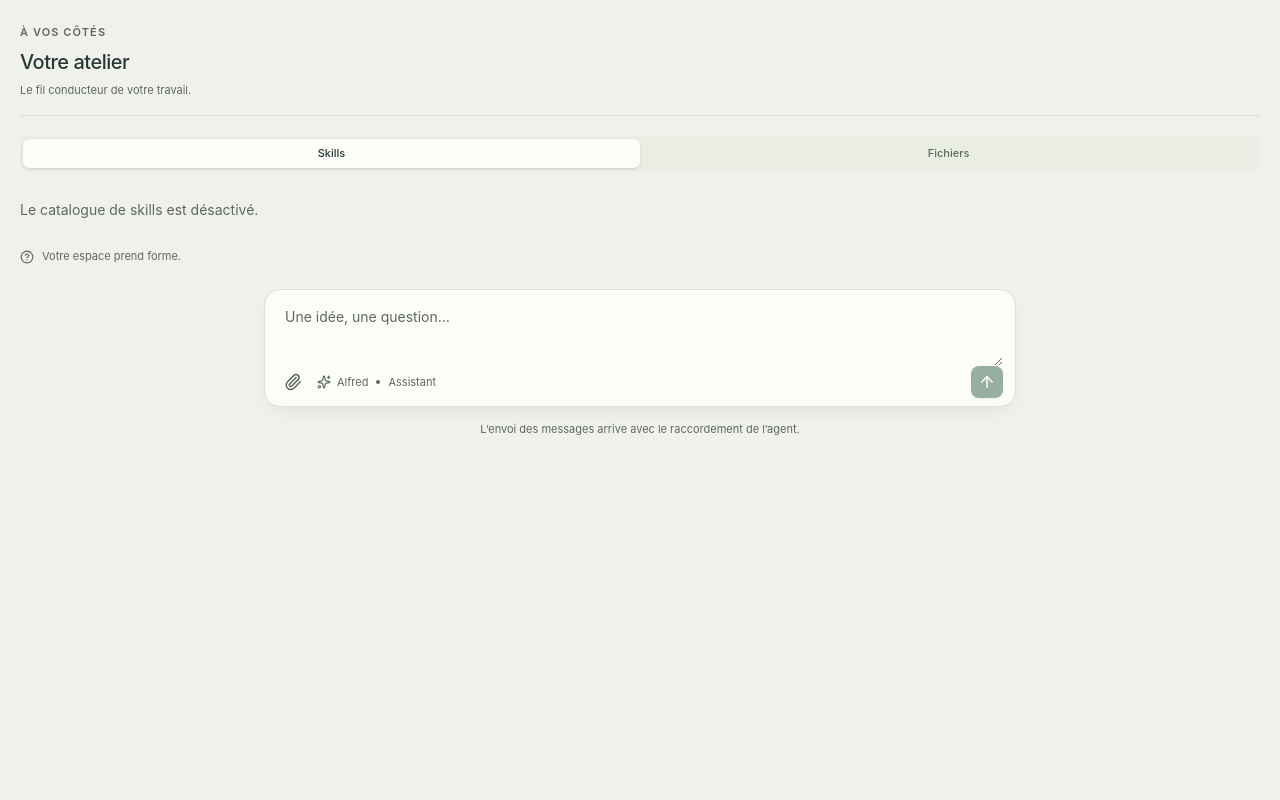
Scenario: Fichiers tab behind the fileUploads capability › renames a file through the shared text dialog and returns focus to its menu
Click the tab "Fichiers". click: (948, 154)
box: 640,139 -> 1257,168
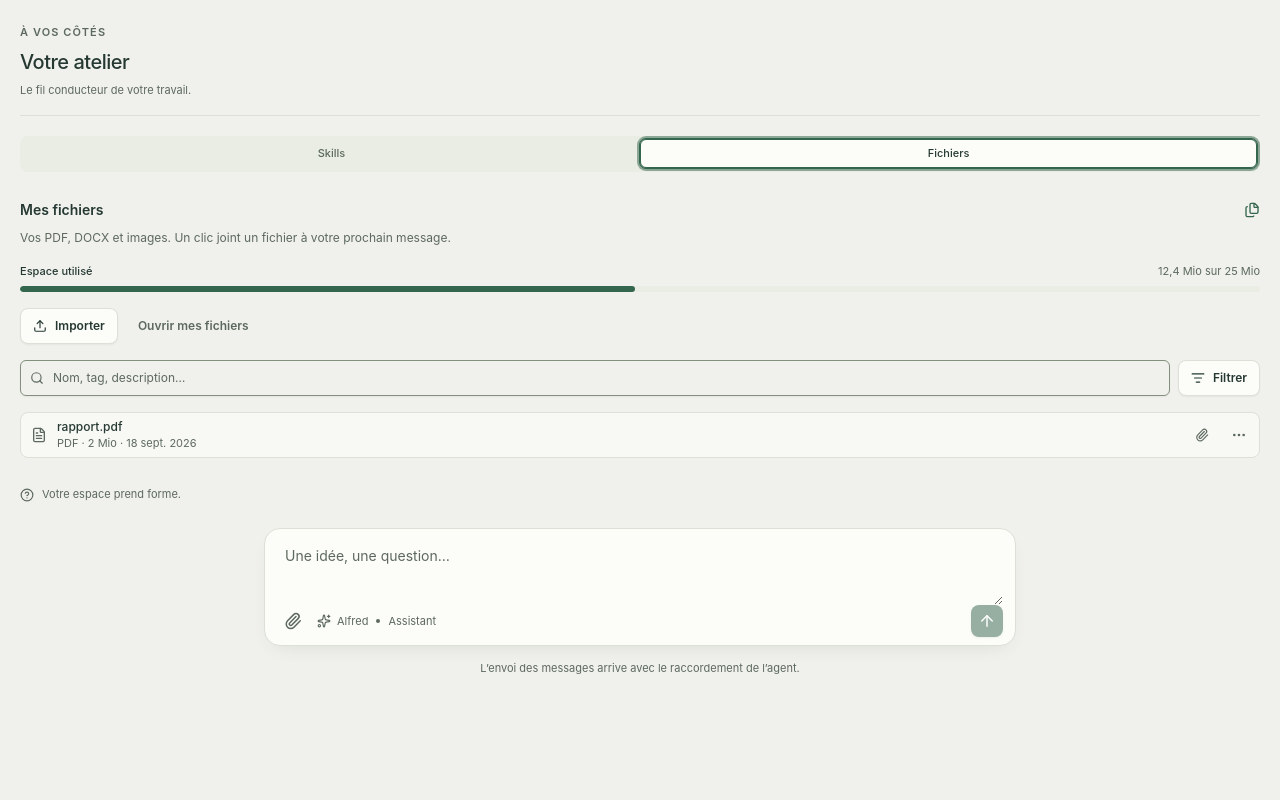
Click the button named "Actions du fichier rapport.pdf". click: (1239, 435)
box: 1223,419 -> 1255,451
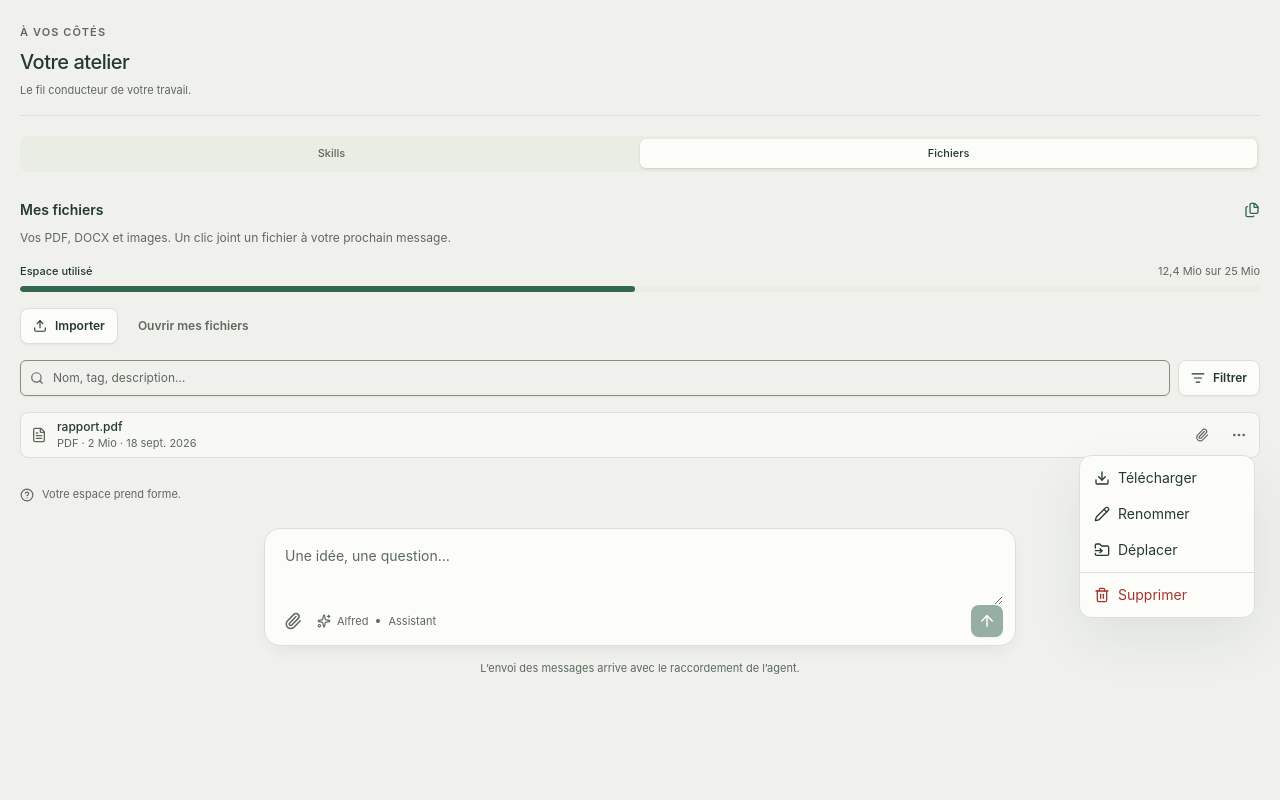
Expected: the menu items read "Télécharger", "Renommer", "Déplacer", "Supprimer", in this order
Click the menu item "Renommer". click: (1142, 514)
box: 1094,505 -> 1190,522
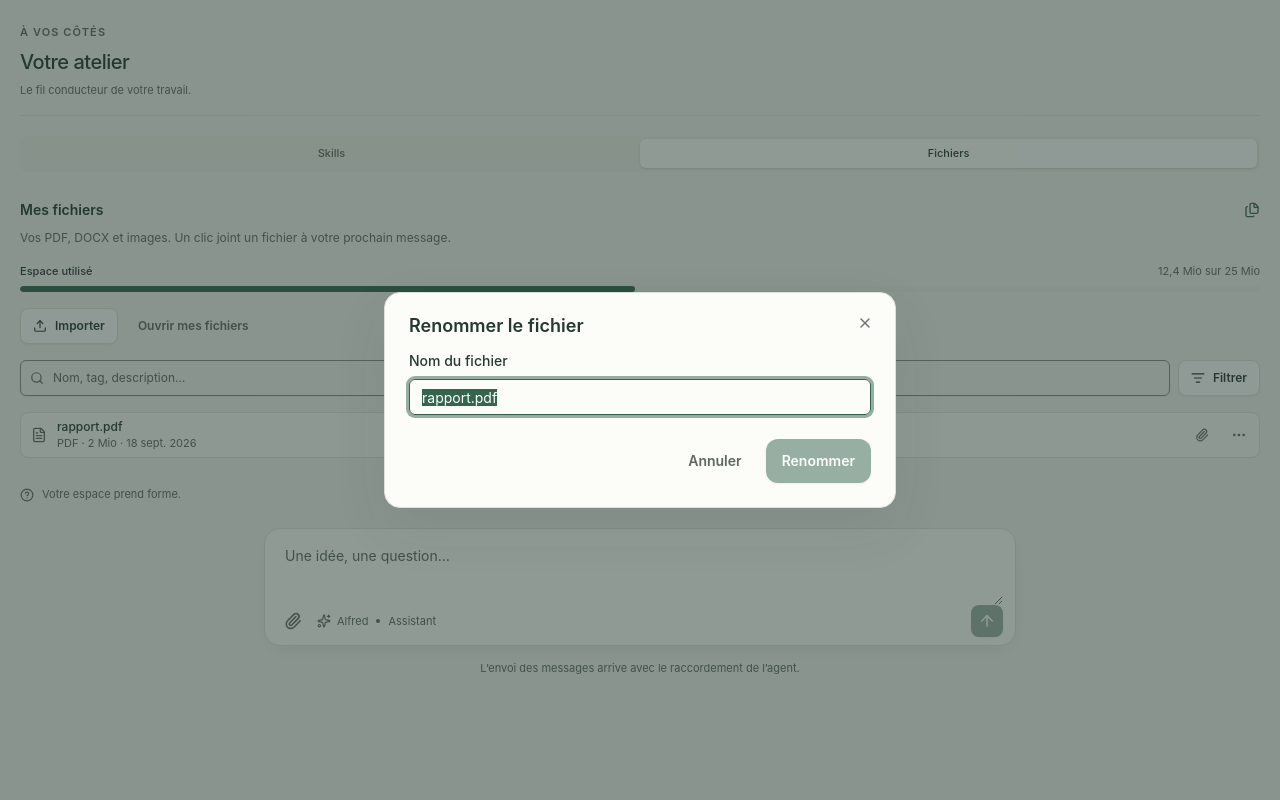
Expected: the field labelled "Nom du fichier" holds "rapport.pdf"
Replace the text in the field labelled "Nom du fichier" with "bilan.pdf". click: (640, 397)
box: 409,379 -> 871,415
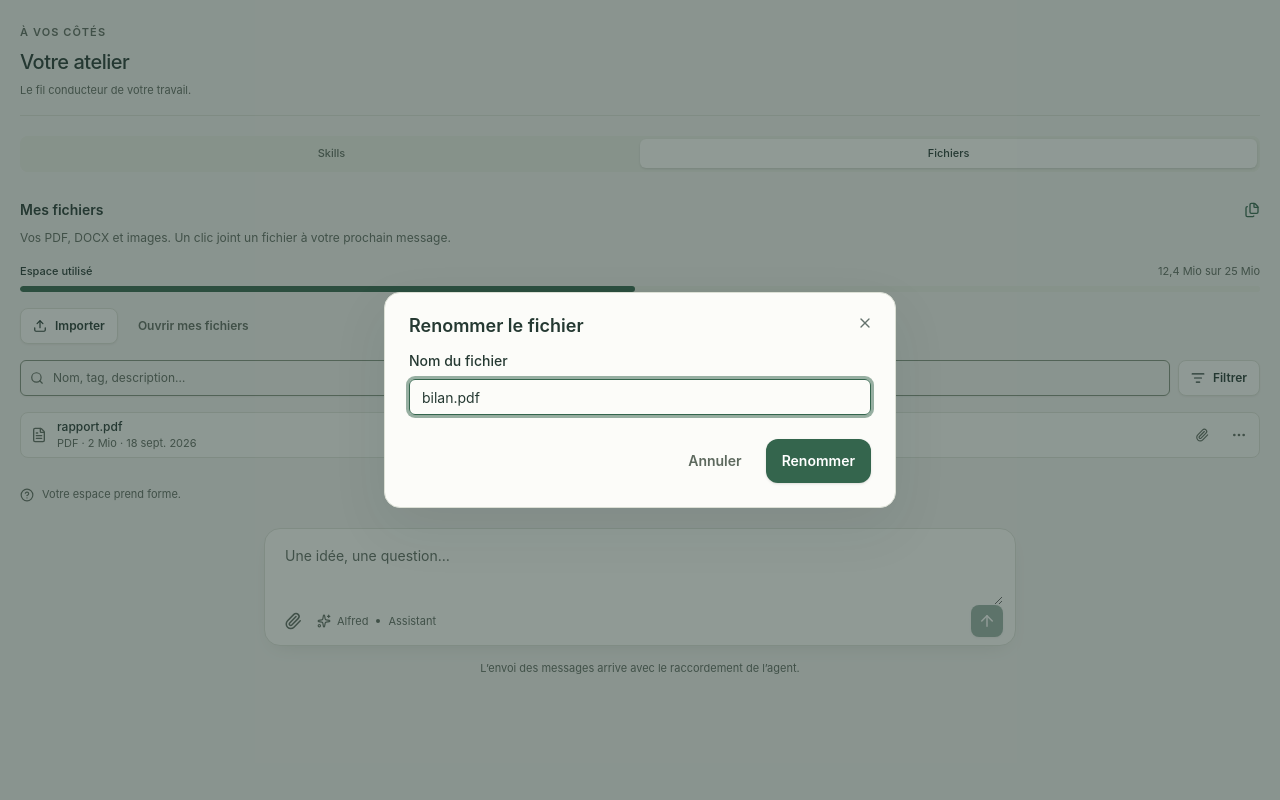
Click the button "Renommer". click: (818, 461)
box: 766,439 -> 871,483
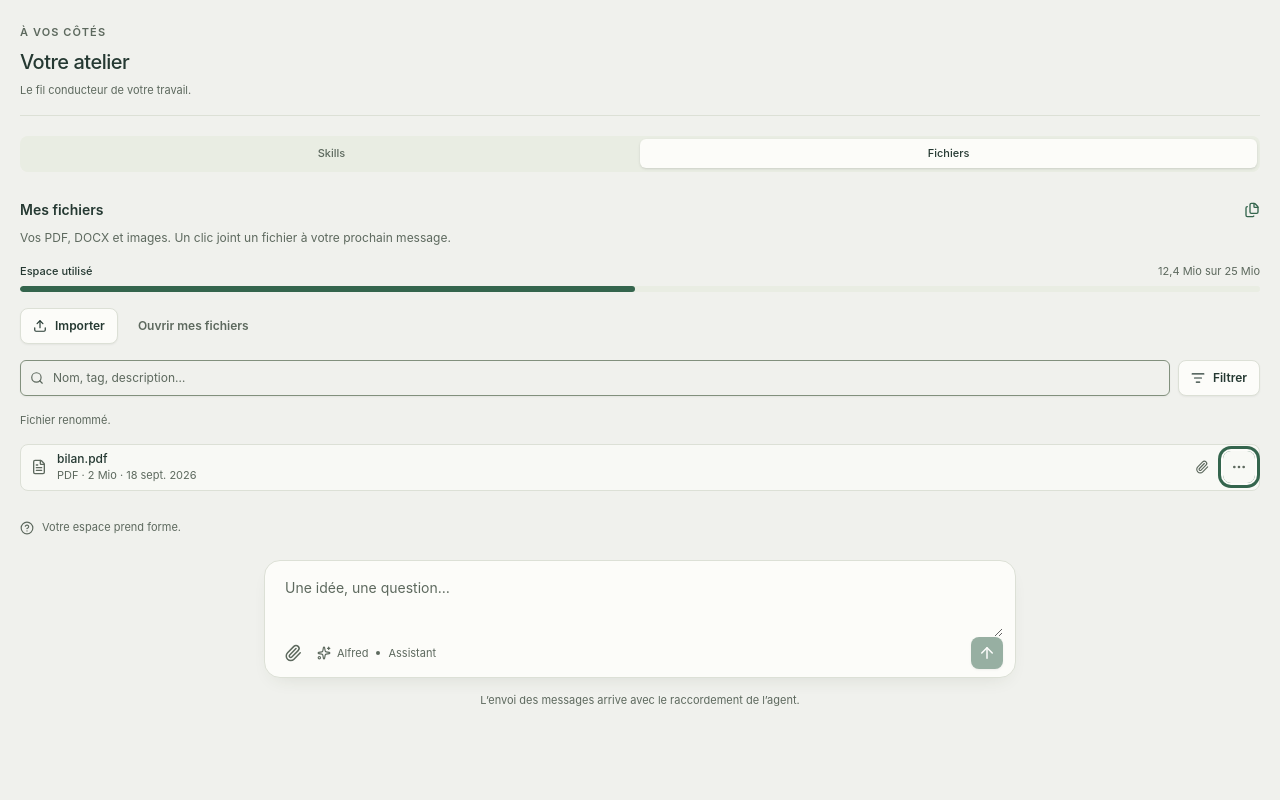
Expected: the dialog is gone
Expected: the text "Fichier renommé." is shown, 20,412 -> 111,426
Expected: the text titled "bilan.pdf" is shown, 57,451 -> 108,466
